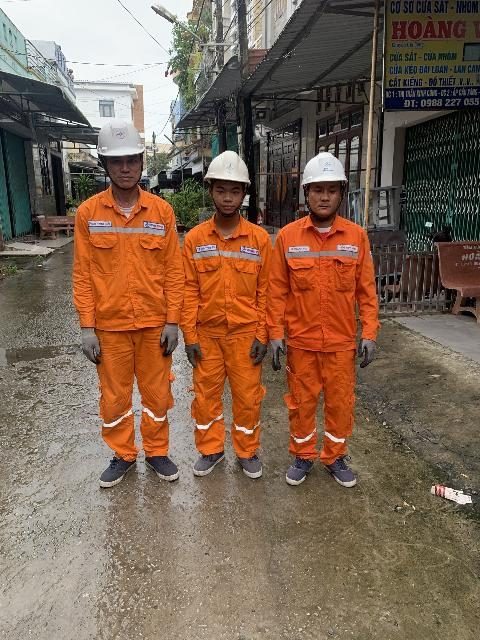gloves: (72, 323, 107, 369), (160, 316, 182, 357), (353, 340, 380, 369), (269, 333, 287, 374), (249, 333, 266, 368), (185, 337, 202, 367)
helmet: (195, 143, 259, 197), (292, 142, 354, 190), (90, 121, 154, 158)
shoes: (88, 450, 138, 486), (141, 448, 186, 487), (280, 446, 319, 487), (322, 452, 362, 491), (190, 439, 228, 479), (231, 447, 271, 477)
